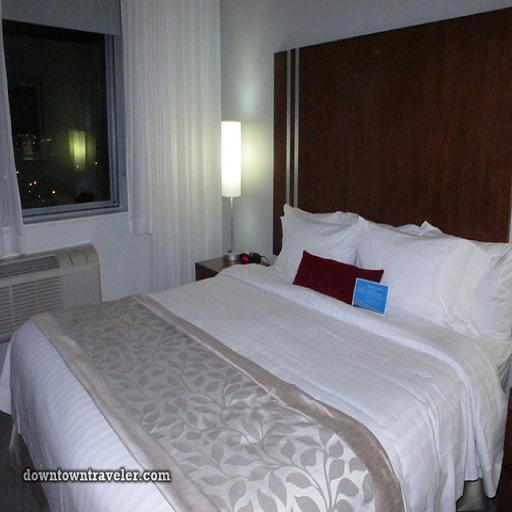bed: (49, 208, 512, 512)
